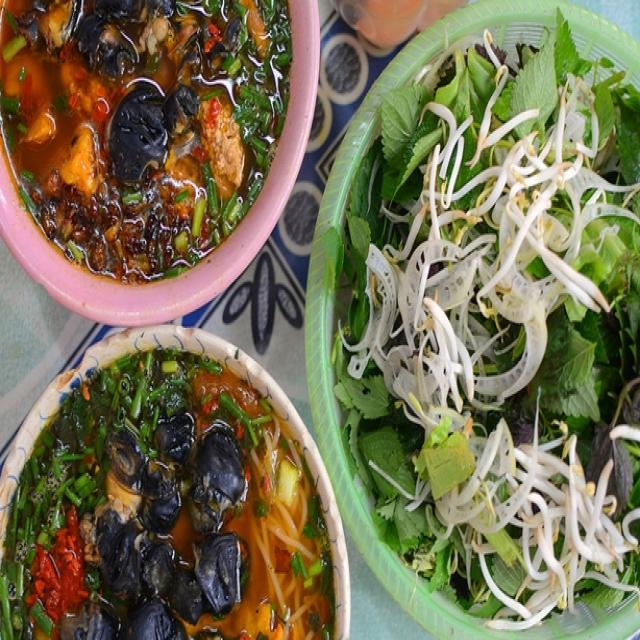面条主食: (11, 17, 602, 623)
